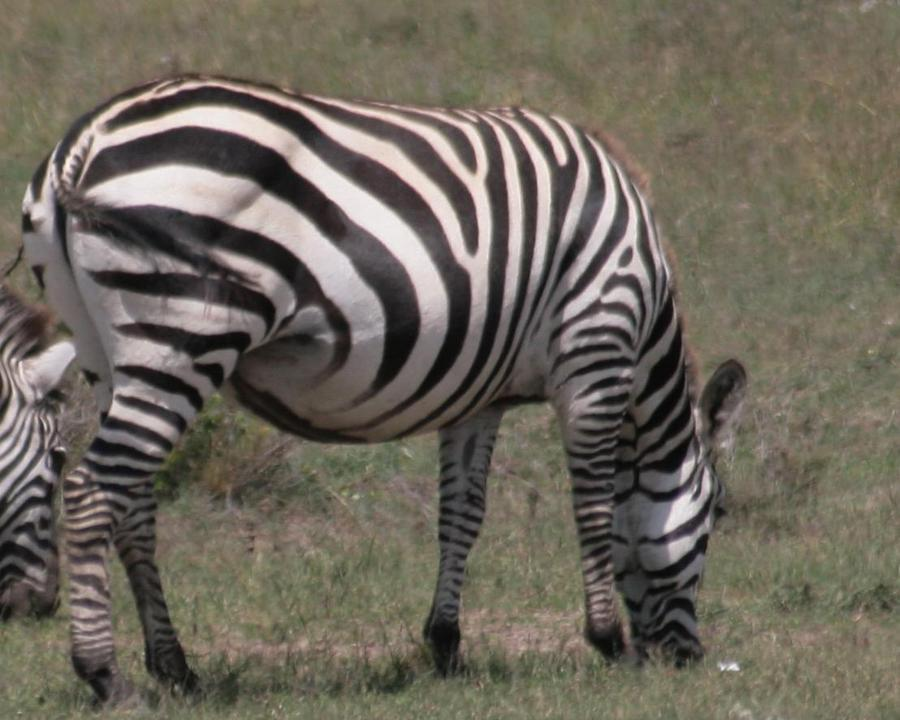zebra_plains: (49, 56, 682, 452)
